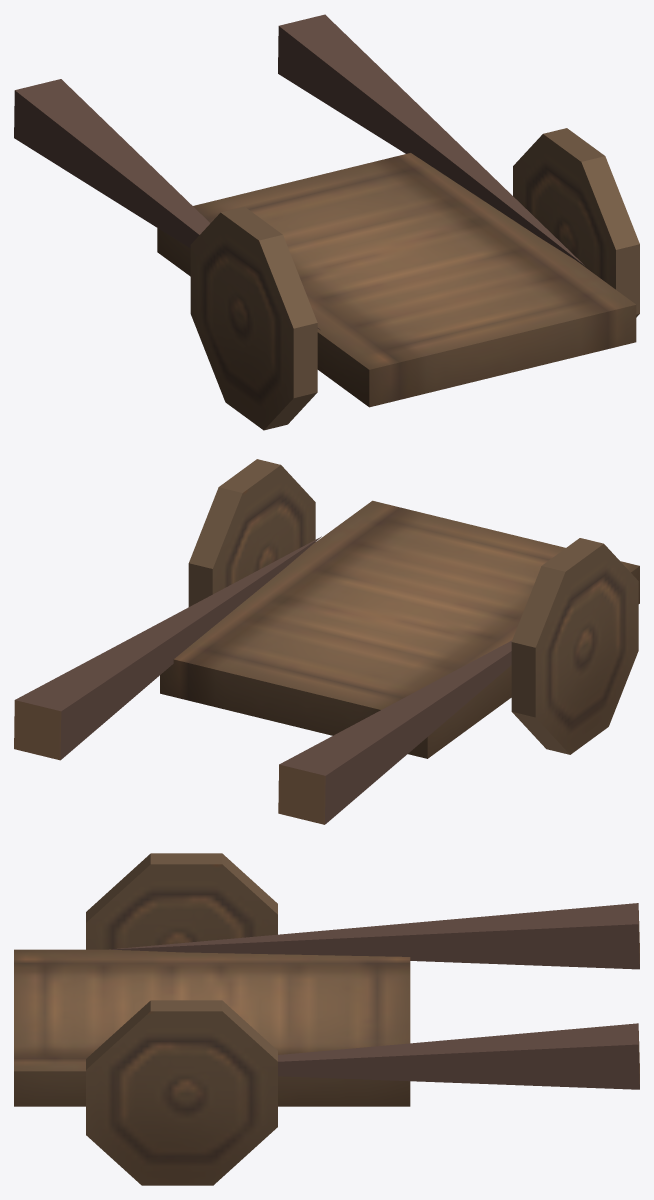
The model's file is zhucheng01_DiTan05.FBX.
3 renders of one model, top to bottom at view 1: azimuth 30°, elevation 25°; view 2: azimuth 150°, elevation 25°; view 3: azimuth 270°, elevation 25°, orthographic. The views are drawn at different scales.
Parts seen in each view (by area): view 1: Object86; view 2: Object86; view 3: Object86.
Boxes of the visible parts, x1,y1,x2,y2 form: Object86: (14,14,639,430); Object86: (14,459,639,824); Object86: (14,853,639,1185).
Size of the model in its own units: 1.97 by 1.01 by 3.31.
